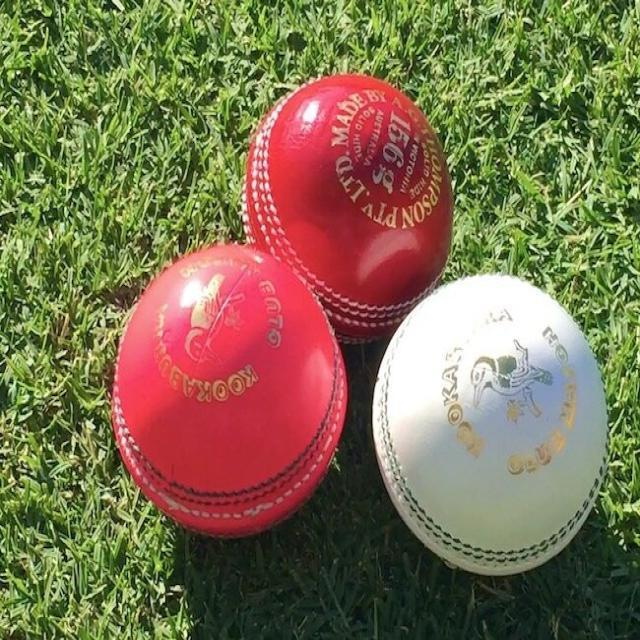cricket ball: (372, 273, 609, 577), (111, 244, 349, 538), (241, 73, 454, 346)
